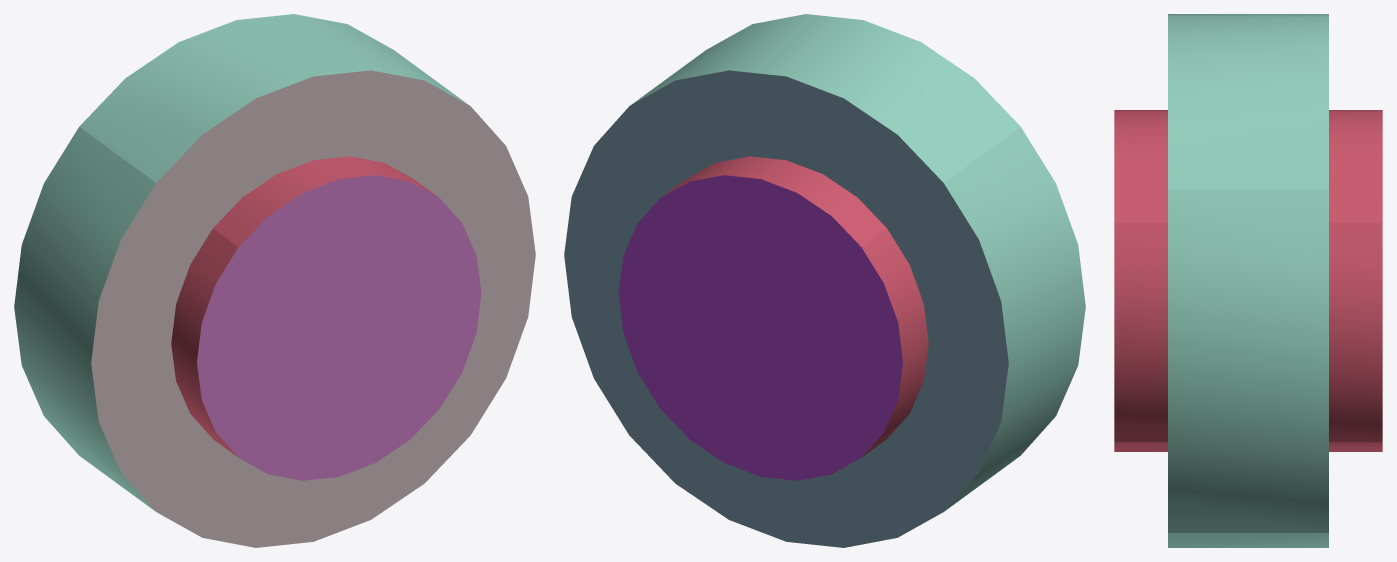
Rendered from module-svg-01.glb.
3 renders of one model, left to right at view 1: azimuth 30°, elevation 25°; view 2: azimuth 150°, elevation 25°; view 3: azimuth 270°, elevation 25°, orthographic. The views are drawn at different scales.
Visible parts, largest first — view 1: Outer_Mesh, Center_Mesh; view 2: Outer_Mesh, Center_Mesh; view 3: Outer_Mesh, Center_Mesh.
Part boxes in pixels (x1,y1,x2,y2): Outer_Mesh: (14, 14, 535, 547); Center_Mesh: (171, 156, 481, 480); Outer_Mesh: (564, 14, 1085, 547); Center_Mesh: (618, 156, 928, 480); Outer_Mesh: (1168, 14, 1328, 547); Center_Mesh: (1114, 110, 1382, 451).
Size of the model in its own units: 0.5 by 0.5 by 0.25.
